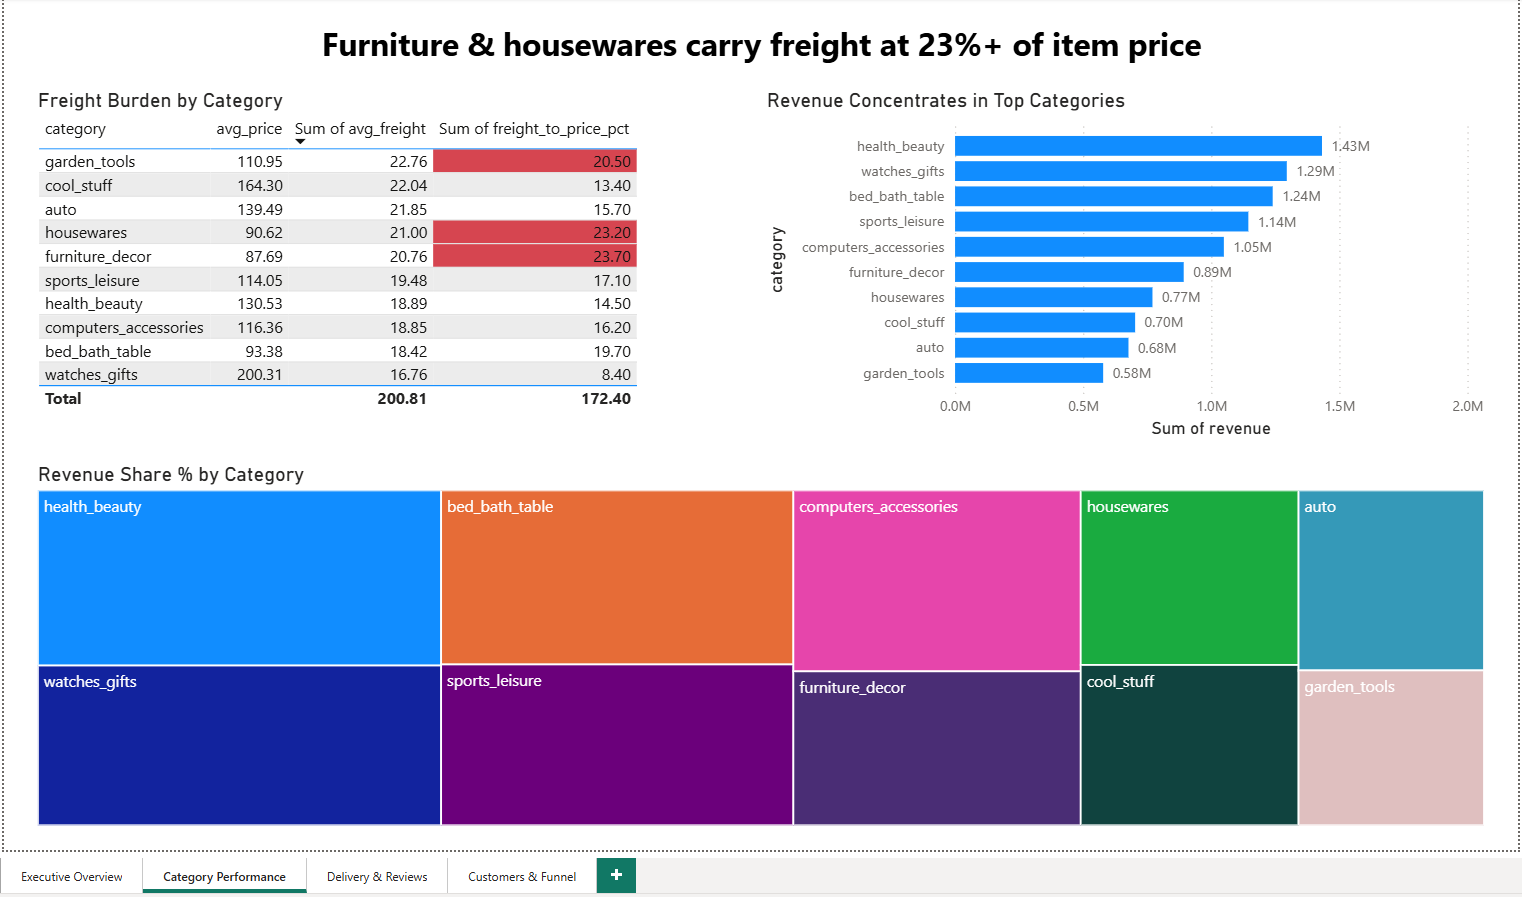

The dashboard page shown, as its layout file describes it:
{"tool":"powerbi","page":{"name":"Category Performance","canvas":[1280,720],"ordinal":1},"visuals":[{"type":"clusteredBarChart","title":"Revenue Concentrates in Top Categories","fields":{"Category":["category_perf.category"],"Y":["Sum(category_perf.revenue)"]},"box":[640,76,616,300],"z":0},{"type":"treemap","title":"Revenue Share % by Category","fields":{"Group":["category_perf.category"],"Values":["Sum(category_perf.revenue_share_pct)"]},"box":[24,392,1232,312],"z":1000},{"type":"tableEx","title":"Freight Burden by Category","fields":{"Values":["category_perf.category","category_perf.avg_price","Sum(category_perf.avg_freight)","Sum(category_perf.freight_to_price_pct)"]},"box":[24,76,600,300],"z":2000},{"type":"textbox","box":[24.3,15.6,1231.4,60.3],"z":3000}]}

Visuals, with their boxes on the page's 1280x720 design canvas (x1, y1, x2, y2). These are canvas units, not pixel positions in the 1522x897 screenshot, which may show the page scaled, cropped or inside an application window:
"Revenue Concentrates in Top Categories" clusteredBarChart: bbox=[640, 76, 1256, 376]
"Revenue Share % by Category" treemap: bbox=[24, 392, 1256, 704]
"Freight Burden by Category" tableEx: bbox=[24, 76, 624, 376]
textbox: bbox=[24, 16, 1256, 76]
